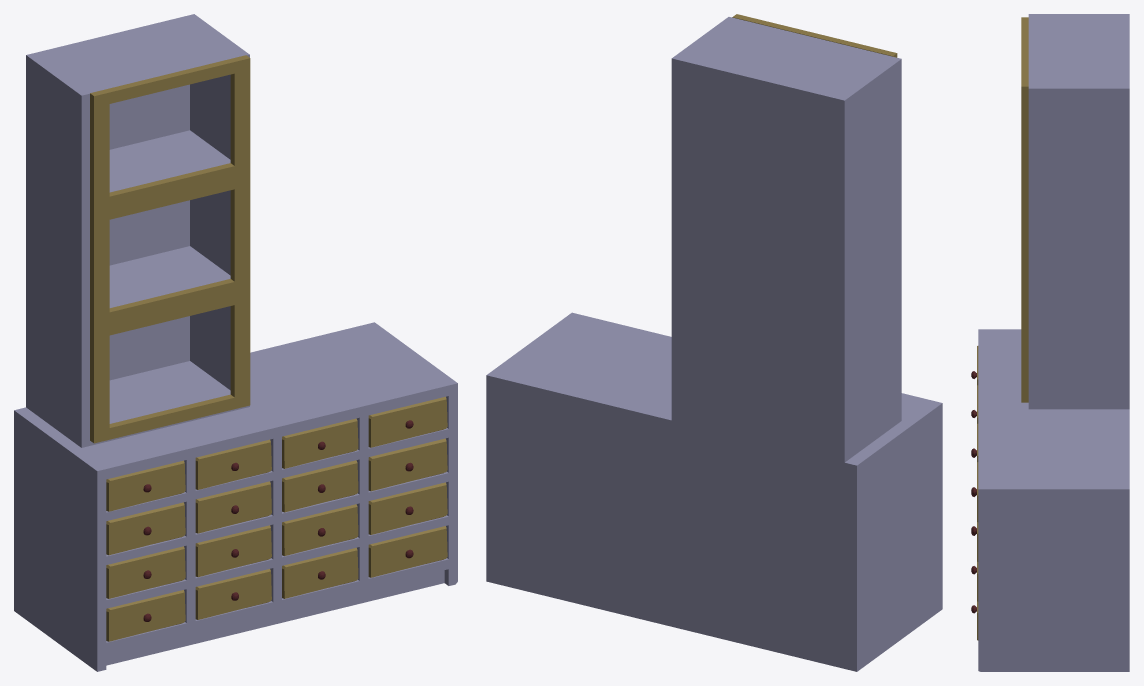
Rendered from drawer-cabinet.fbx.
3 renders of one model, left to right at view 1: azimuth 30°, elevation 25°; view 2: azimuth 150°, elevation 25°; view 3: azimuth 270°, elevation 25°, orthographic. The views are drawn at different scales.
Visible parts, largest first — view 1: drawers-cabinet, top-cabinet, top-cabinet-door, drawer_1.004, drawer_1.007, drawer_1.008, drawer_1.011, drawer_1.012, drawer_1.015, drawer_1.005, drawer_1.006, drawer_1.009 (+7 smaller); view 2: drawers-cabinet, top-cabinet, top-cabinet-door; view 3: drawers-cabinet, top-cabinet, top-cabinet-door.
Boxes of the visible parts, x1,y1,x2,y2 form: drawers-cabinet: [14, 322, 457, 671]; top-cabinet: [26, 14, 249, 447]; top-cabinet-door: [90, 55, 250, 443]; drawer_1.004: [106, 502, 185, 555]; drawer_1.007: [368, 438, 447, 491]; drawer_1.008: [106, 546, 185, 598]; drawer_1.011: [368, 482, 447, 534]; drawer_1.012: [106, 590, 185, 641]; drawer_1.015: [368, 526, 447, 577]; drawer_1.005: [195, 481, 271, 533]; drawer_1.006: [282, 460, 358, 512]; drawer_1.009: [195, 525, 271, 577]; drawers-cabinet: [486, 312, 942, 671]; top-cabinet: [671, 17, 901, 462]; top-cabinet-door: [732, 14, 897, 57]; drawers-cabinet: [978, 329, 1129, 671]; top-cabinet: [1028, 14, 1129, 409]; top-cabinet-door: [1021, 17, 1028, 402].
Size of the model in its own units: 1.5 by 0.6279 by 2.2.
1 material, 1 textured.
